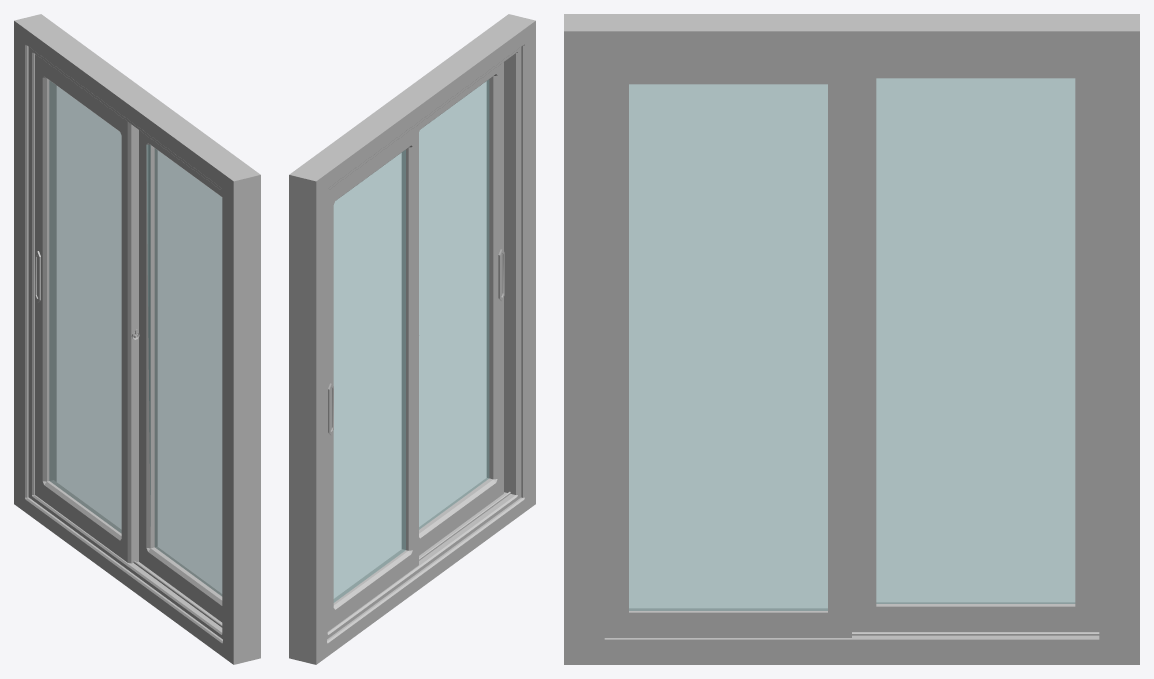
The model's file is Window04_open.FBX.
3 views of the same model, side by side, from view 1: azimuth 30°, elevation 25°; view 2: azimuth 150°, elevation 25°; view 3: azimuth 270°, elevation 25° (orthographic). The views are drawn at different scales.
Visible parts, largest first — view 1: Window04_open; view 2: Window04_open; view 3: Window04_open.
Boxes of the visible parts, left/top/right/bottom form: Window04_open: left=14, top=14, right=260, bottom=664; Window04_open: left=289, top=14, right=535, bottom=664; Window04_open: left=564, top=14, right=1139, bottom=664.
Bounding box in the file's own units: 10 × 140 × 170.
